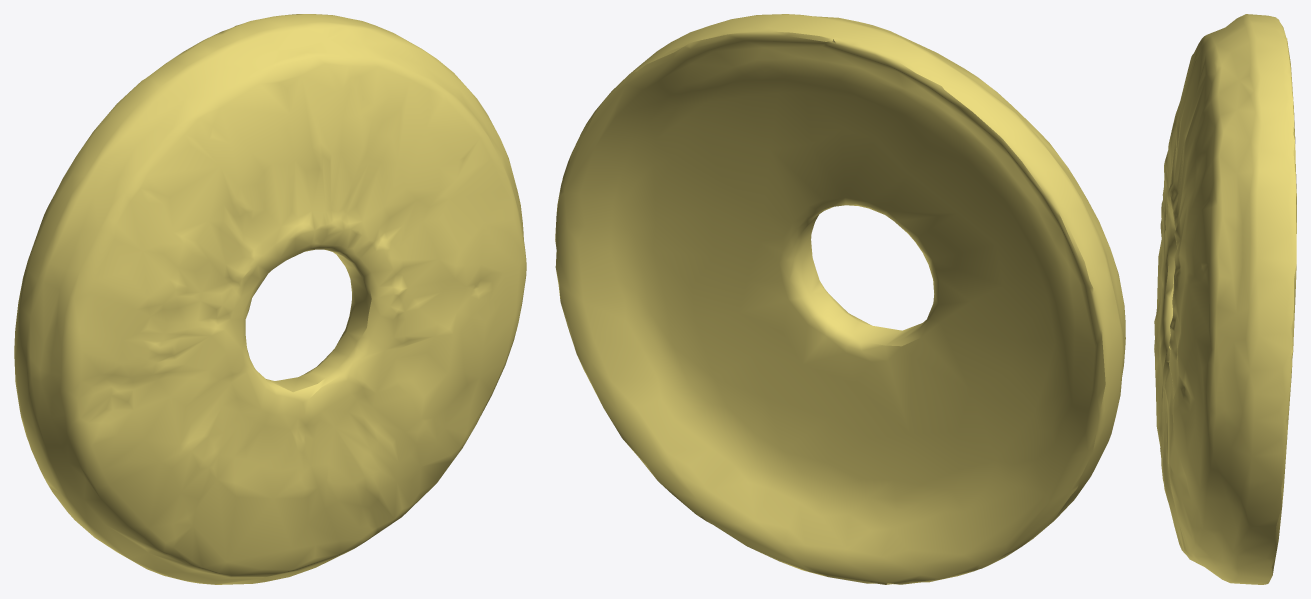
Rendered from iris-l.glb.
3 renders of one model, left to right at view 1: azimuth 30°, elevation 25°; view 2: azimuth 150°, elevation 25°; view 3: azimuth 270°, elevation 25°, orthographic. The views are drawn at different scales.
Parts seen in each view (by area): view 1: Iris.l; view 2: Iris.l; view 3: Iris.l.
Part boxes in pixels (left/top/right/bottom): Iris.l: left=14, top=14, right=526, bottom=584; Iris.l: left=555, top=14, right=1125, bottom=584; Iris.l: left=1154, top=14, right=1296, bottom=584.
Bounding box in the file's own units: 0.0129 × 0.0129 × 0.00322.
